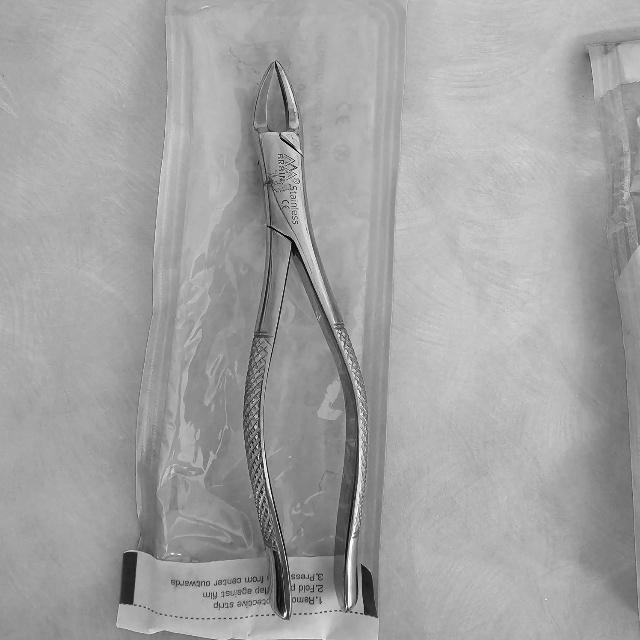forceps: (244, 63, 367, 622)
